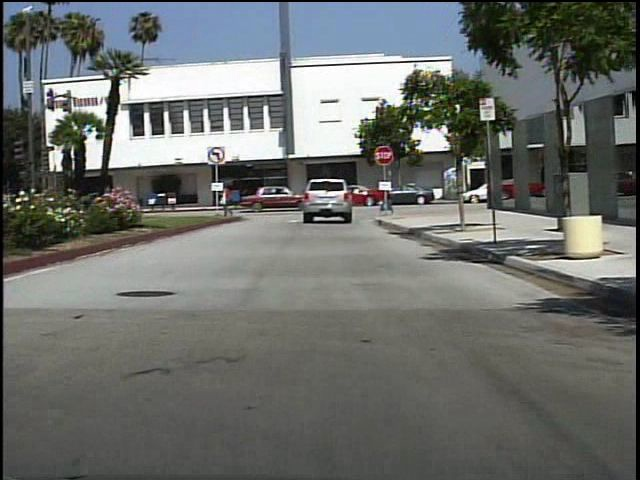person: (376, 174, 399, 217), (221, 180, 241, 217), (256, 180, 272, 207)
